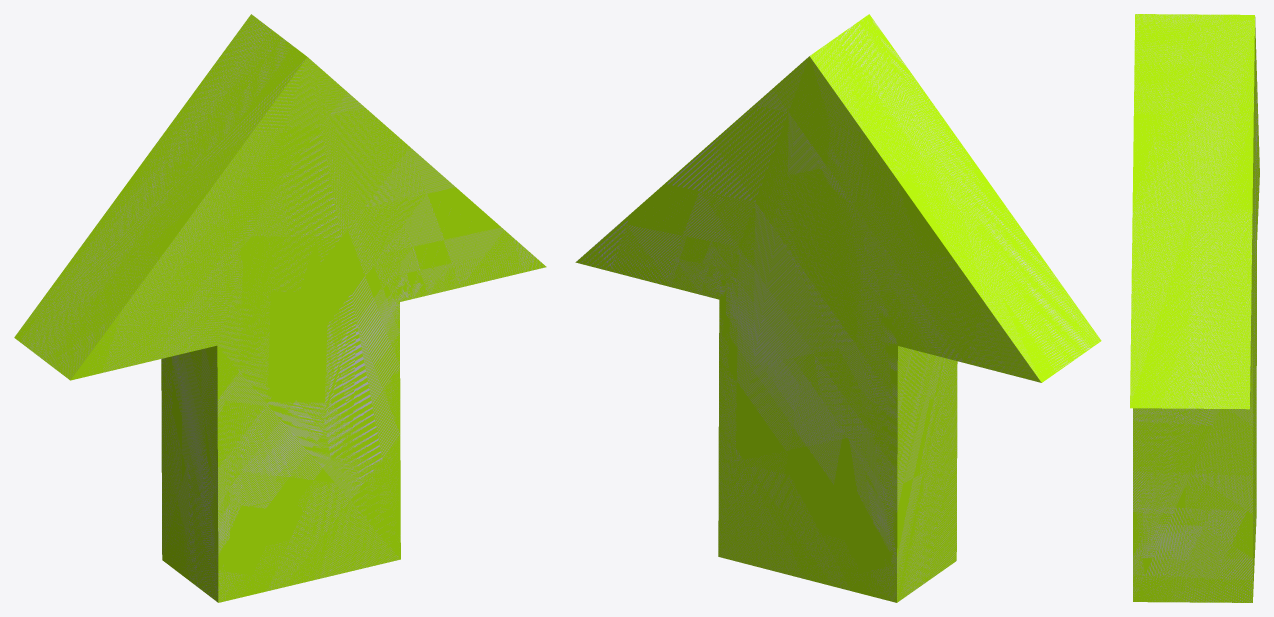
The model's file is arrow.dae.
The picture shows the model from 3 angles, left to right: view 1: azimuth 30°, elevation 25°; view 2: azimuth 150°, elevation 25°; view 3: azimuth 270°, elevation 25°; orthographic projection. The views are drawn at different scales.
Visible parts, largest first — view 1: SketchUp; view 2: SketchUp; view 3: SketchUp.
Part boxes in pixels (bbox=[...]): SketchUp: bbox=[14, 14, 546, 602]; SketchUp: bbox=[575, 14, 1101, 602]; SketchUp: bbox=[1130, 14, 1259, 602].
Size of the model in its own units: 3.94 by 0.9084 by 4.18.
